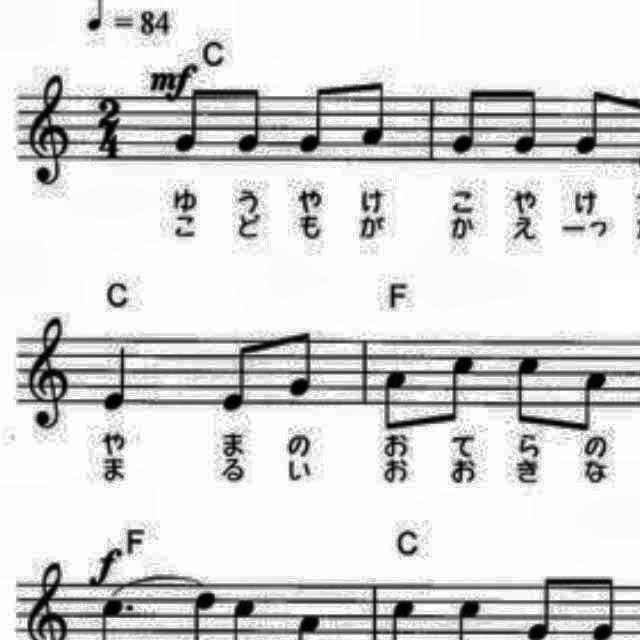Eighth-note: (212, 332, 262, 420), (432, 347, 480, 429), (567, 83, 615, 165), (291, 76, 337, 160), (448, 83, 492, 165), (278, 322, 320, 403), (228, 78, 270, 158), (511, 346, 551, 429), (354, 75, 394, 157), (510, 82, 550, 164), (521, 572, 569, 640), (570, 366, 614, 438), (374, 364, 414, 436), (581, 572, 623, 640), (185, 584, 222, 640), (226, 592, 262, 640)
Quarter-note: (92, 338, 140, 418)
Treble-clef: (19, 310, 81, 434), (20, 70, 80, 192)
